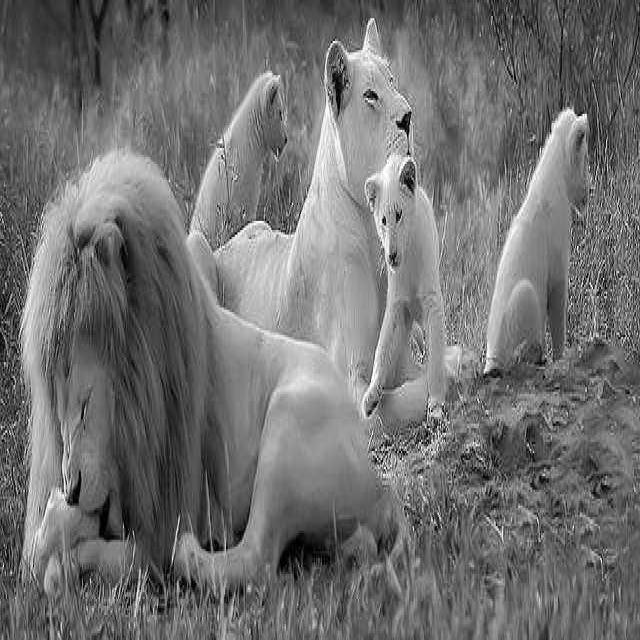Lion: (38, 124, 356, 558)
